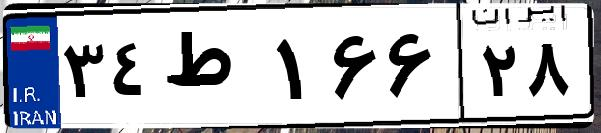1: (270, 28, 330, 110)
2: (475, 38, 525, 113)
3: (57, 26, 110, 100)
4: (110, 28, 158, 98)
6: (385, 28, 445, 110), (330, 28, 385, 110)
8: (525, 38, 570, 115)
ط: (158, 20, 270, 120)
